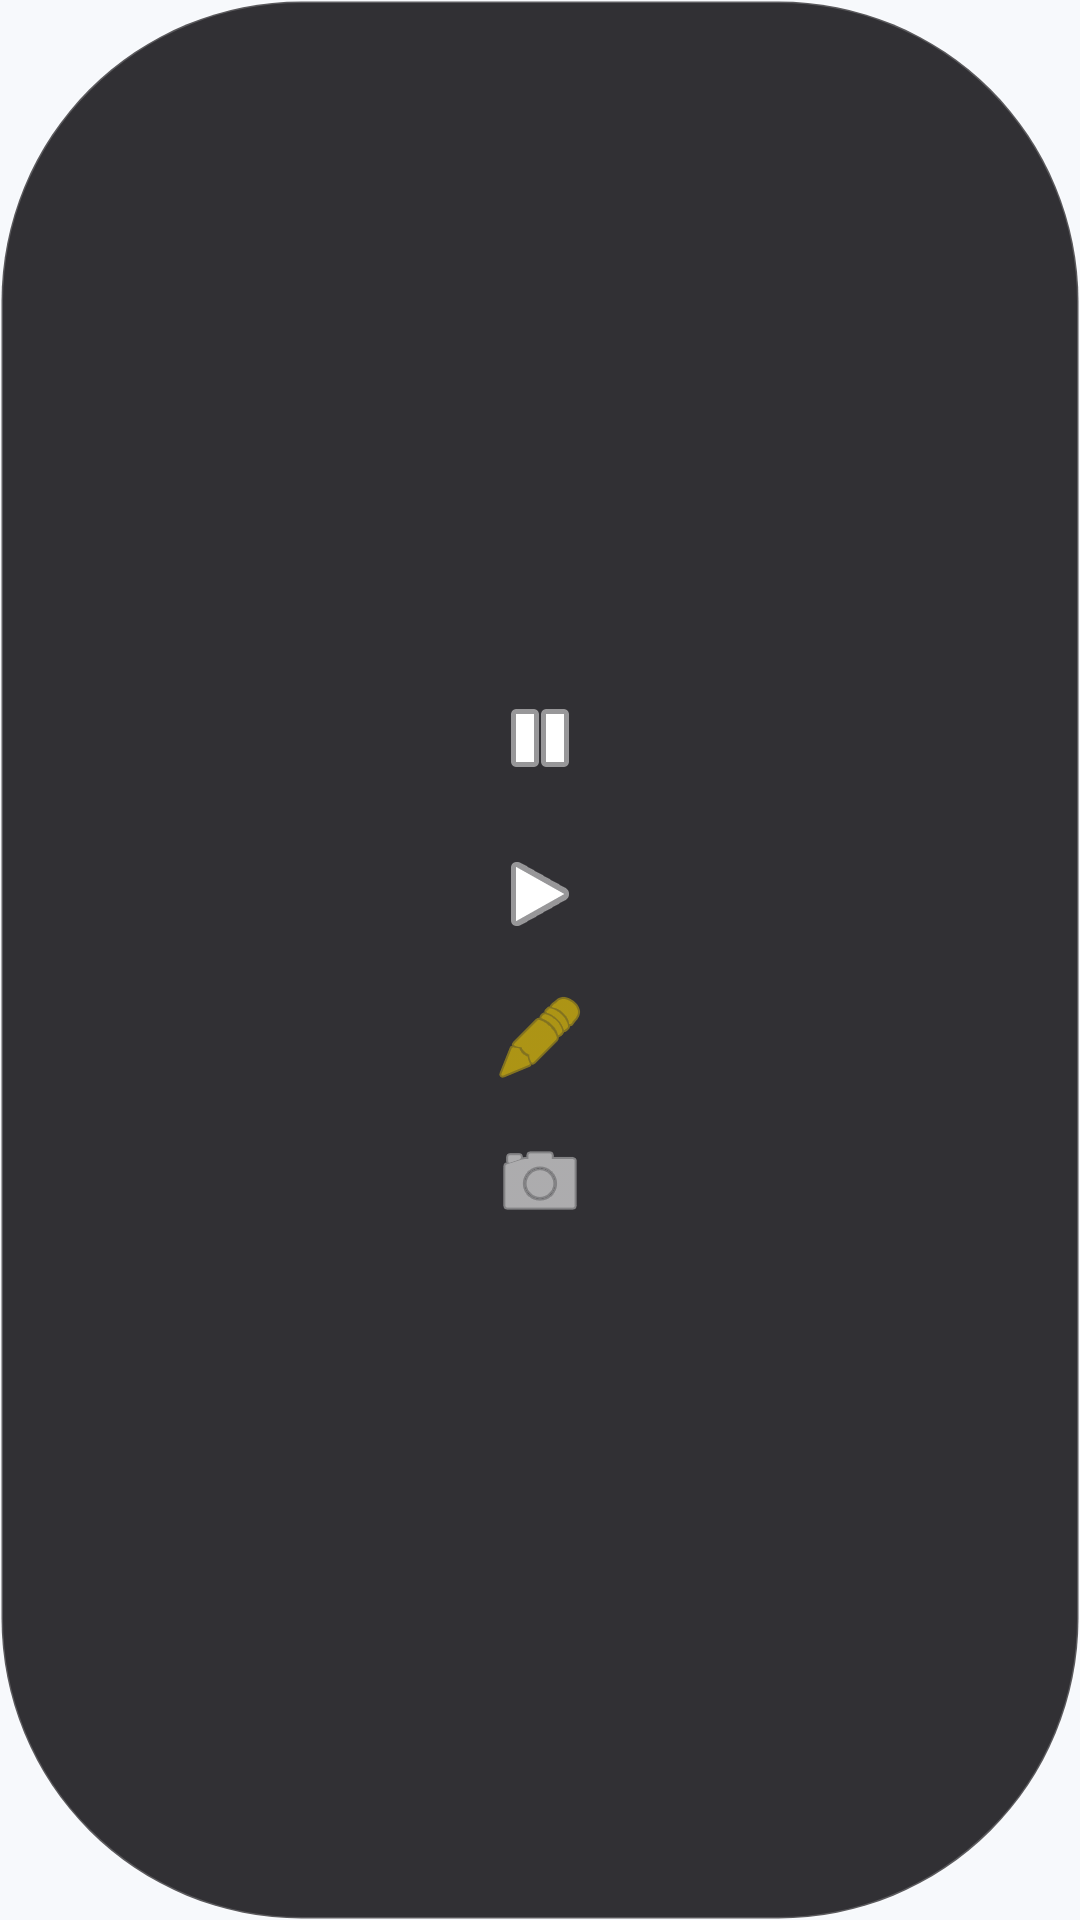

Screen size 1080px×1920px. Icon name, then its center in pixels as (x=x, y=y):
Camera trước: (x=540, y=1180)
Cọ vẽ ghi chú: (x=539, y=1037)
